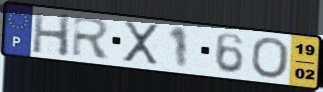1: (166, 26, 189, 71)
6: (213, 31, 245, 75)
H: (31, 11, 73, 59)
O: (249, 36, 291, 80)
R: (71, 15, 113, 61)
X: (122, 20, 161, 67)
